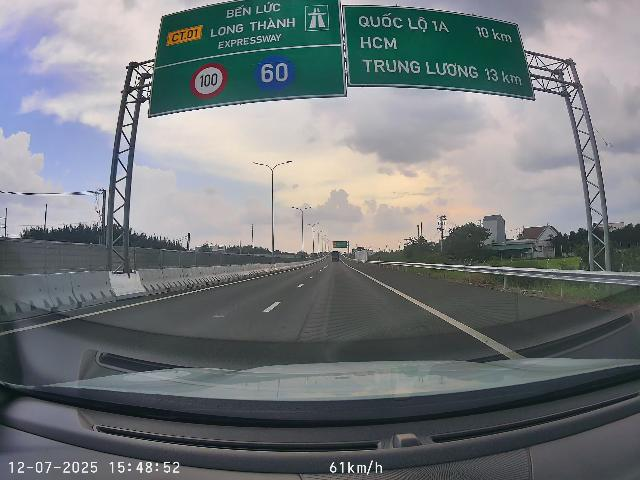127-toc-do-toi-da-100: (190, 62, 228, 99)
306-toc-do-toi-thieu-60: (254, 55, 296, 91)
437-bat-dau-duong-cao-toc: (305, 5, 329, 30)
